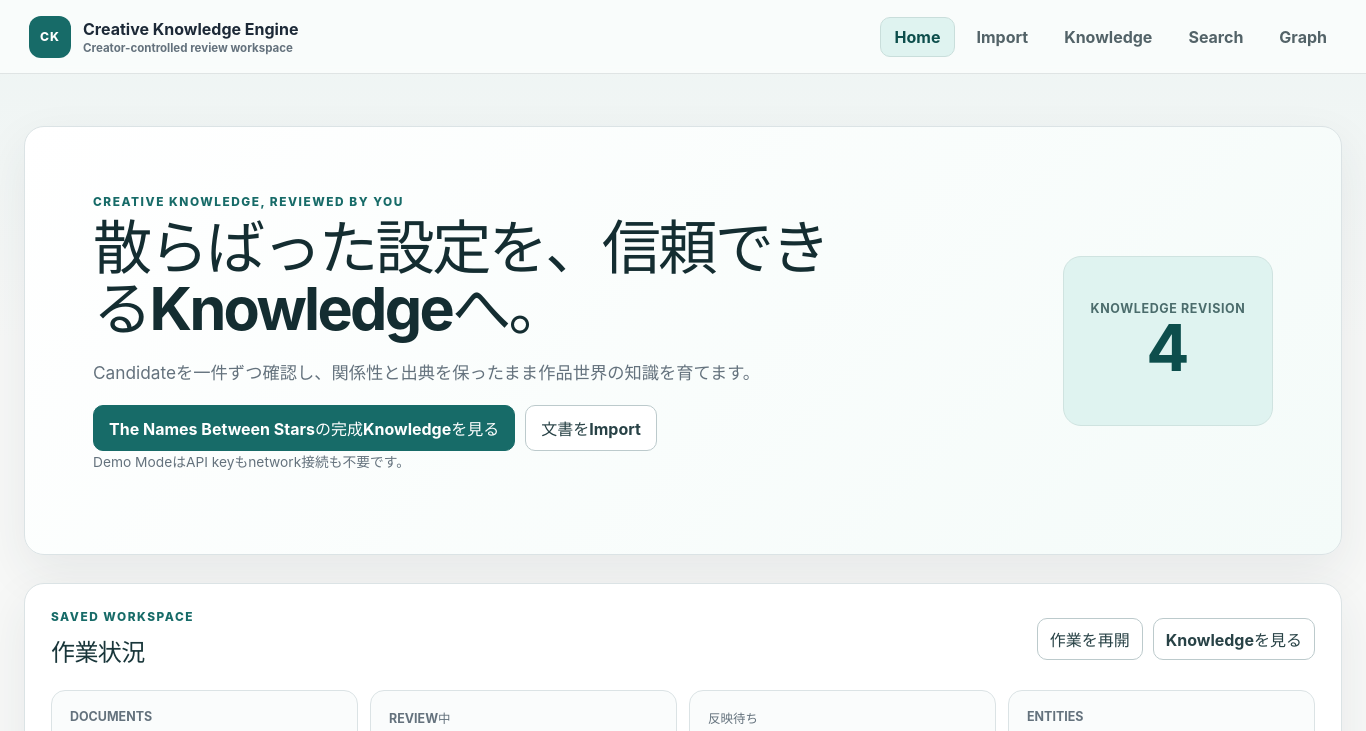
Test: Step 7 Export UI › rebuilds Search and Graph from persisted Knowledge after remount
Expected: the heading "散らばった設定を、信頼できるKnowledgeへ。" is shown, [93,218,873,340]
Click the button "Search".
click(1216, 36)  # box [1173,16,1258,56]
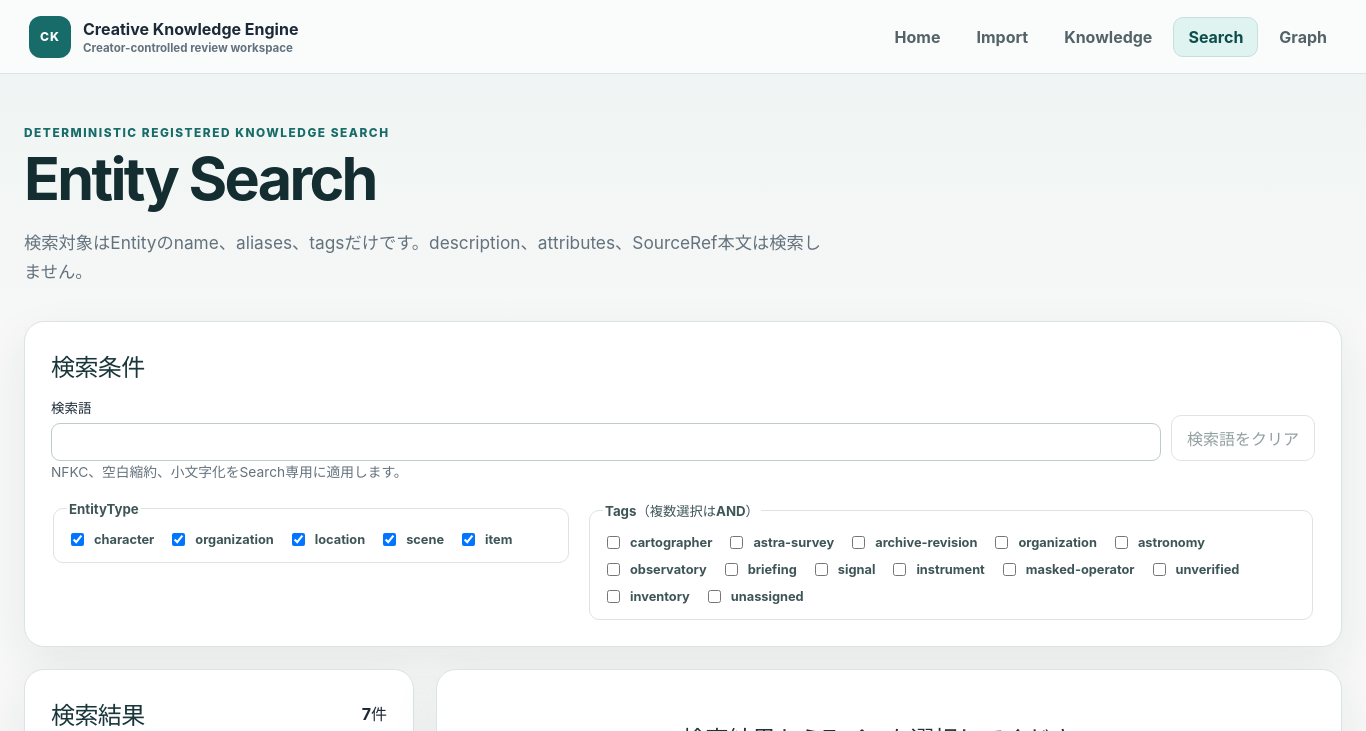
Result: the text "7件" is shown at [362,701,387,725]
Click the button "Graph".
click(1303, 36)  # box [1264,16,1342,56]
(page scrolled)
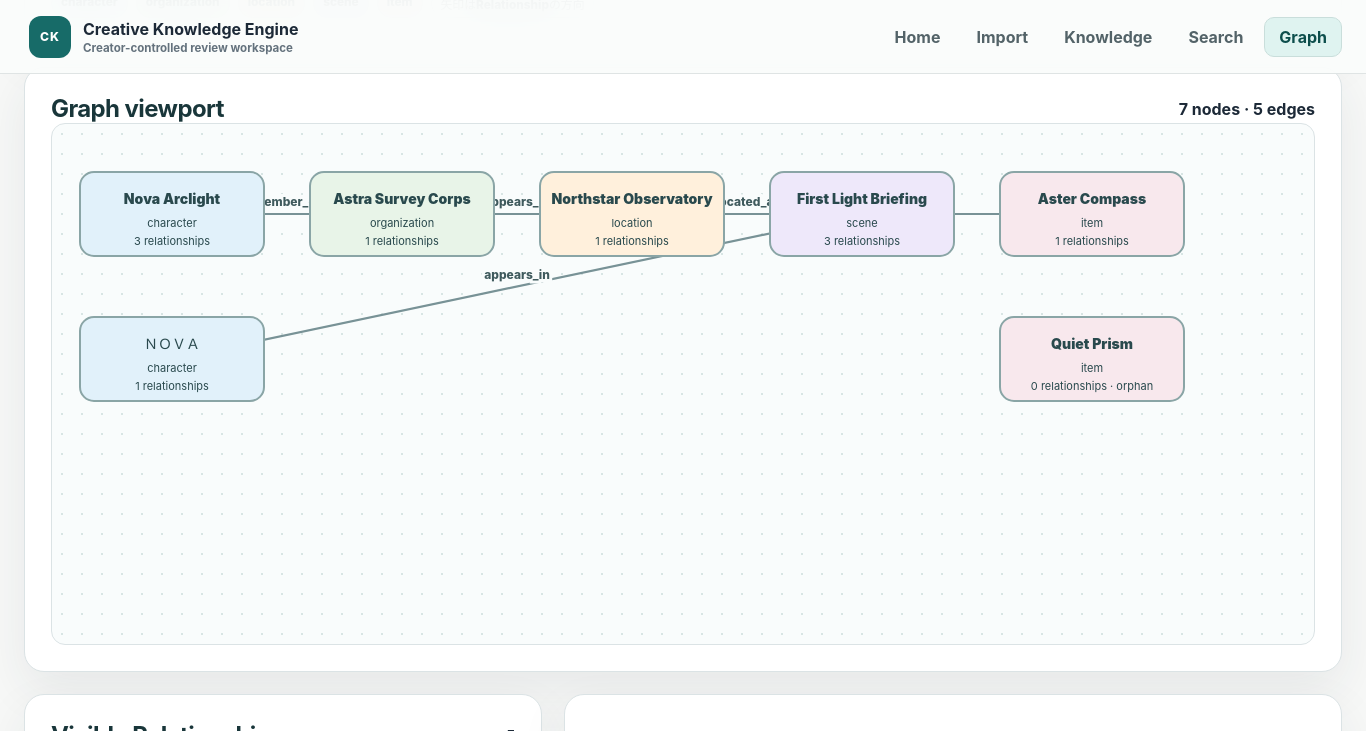
Result: the icon named "Knowledge Graph: 7 nodes and 5 directed edges" is shown
